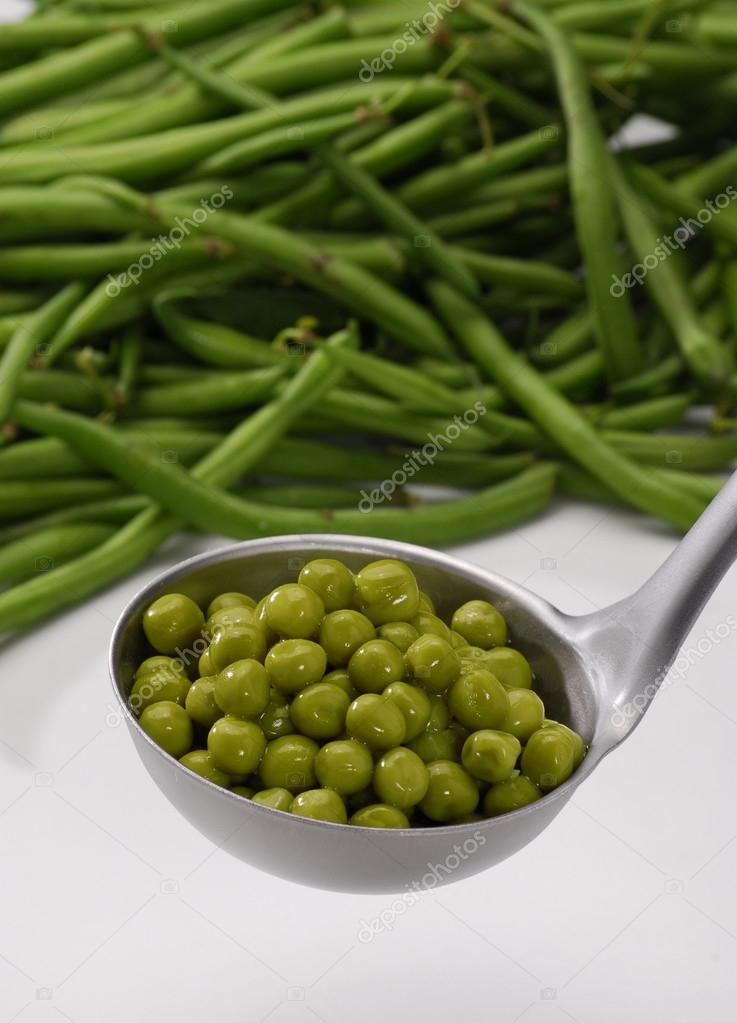boiled peas: (218, 585, 511, 771)
